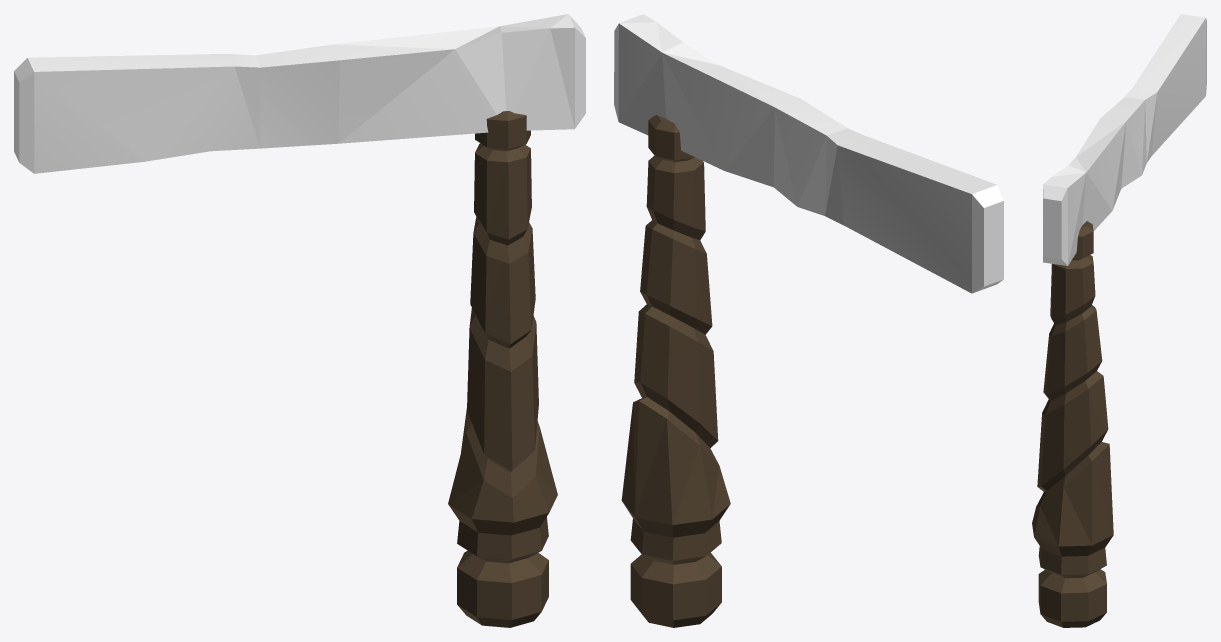
The model's file is Poste.glb.
The picture shows the model from 3 angles, left to right: view 1: azimuth 30°, elevation 25°; view 2: azimuth 150°, elevation 25°; view 3: azimuth 270°, elevation 25°; orthographic projection. The views are drawn at different scales.
Parts seen in each view (by area): view 1: SM_Prop_Pole_01; view 2: SM_Prop_Pole_01; view 3: SM_Prop_Pole_01.
Part boxes in pixels (box(x1,y1,x2,y2)): SM_Prop_Pole_01: box(14, 14, 585, 627); SM_Prop_Pole_01: box(614, 14, 1003, 627); SM_Prop_Pole_01: box(1032, 14, 1206, 627).
Bounding box in the file's own units: 2.11 × 2.46 × 0.8632.
Materials: 1 (1 with a texture image).
